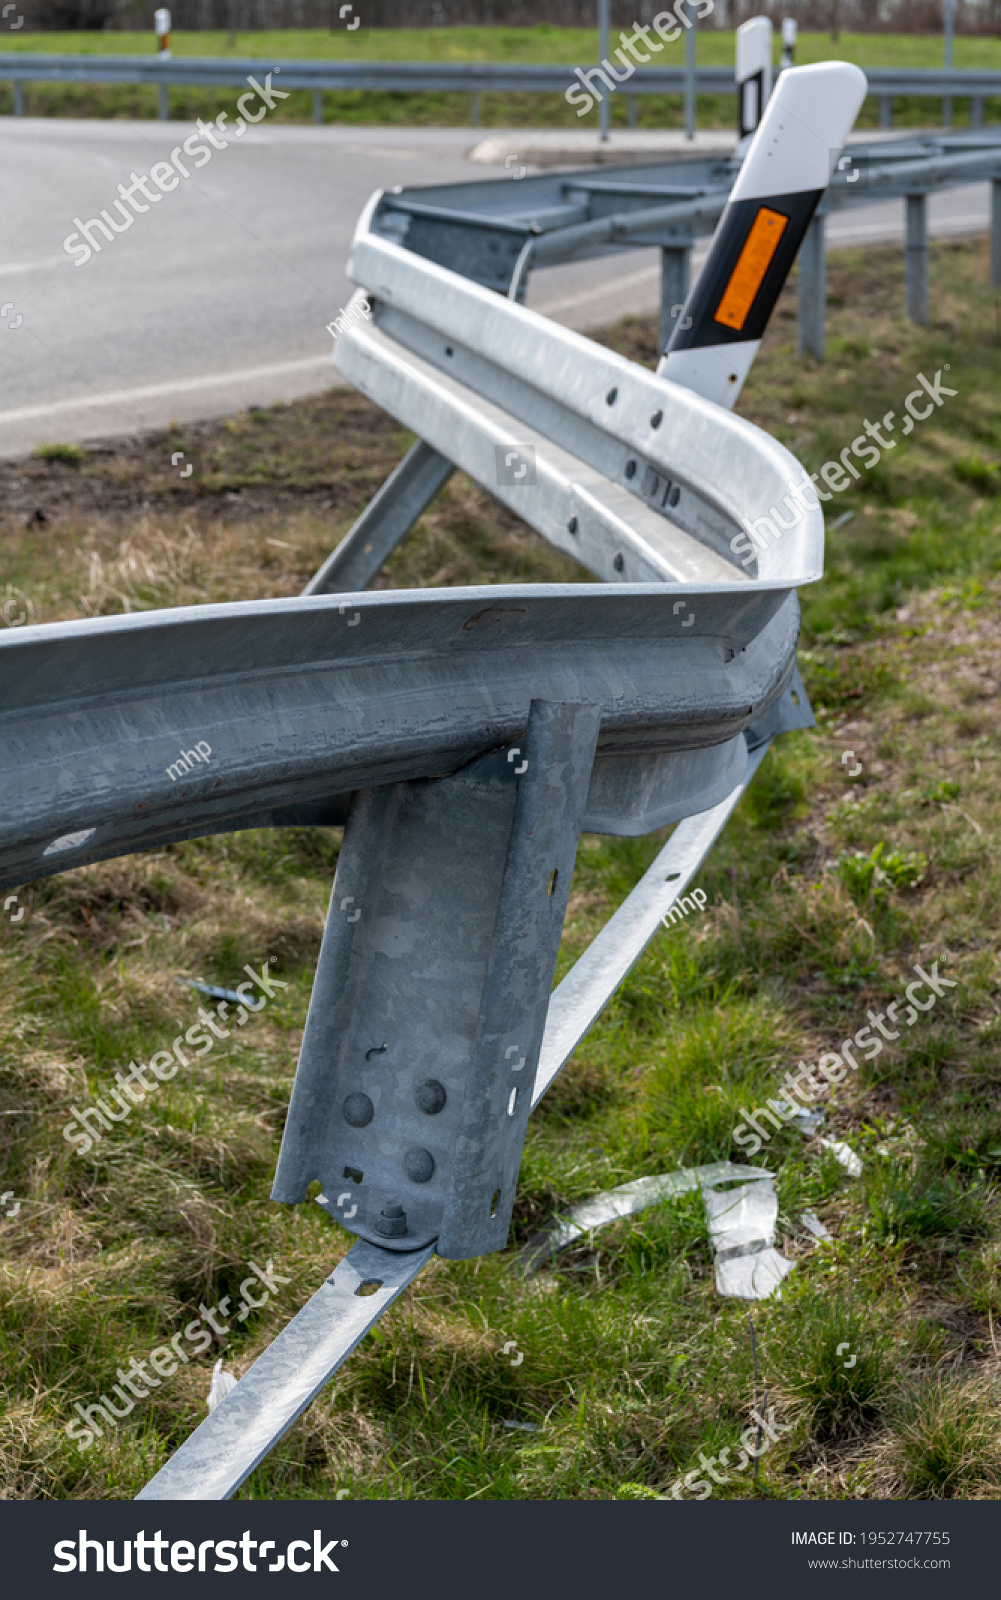damaged: (279, 149, 855, 1319)
